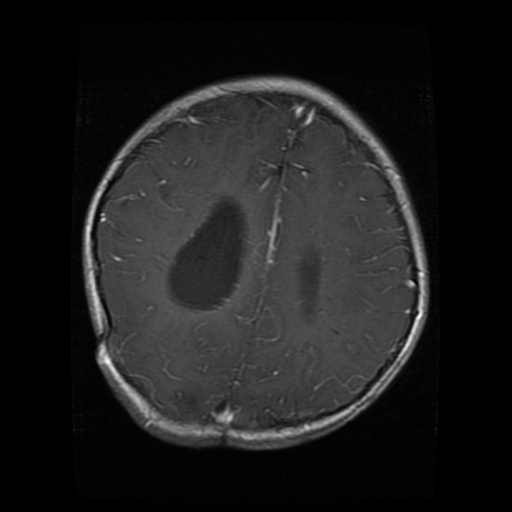glioma: (162, 195, 246, 309)
